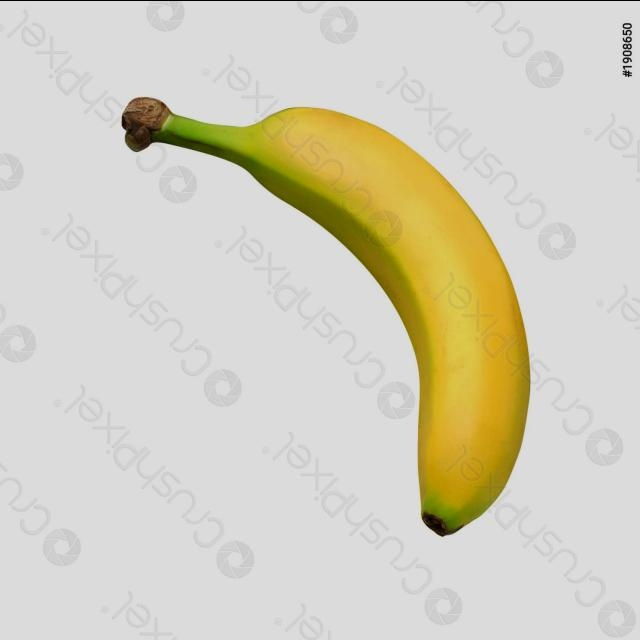agrume: (122, 97, 534, 539)
